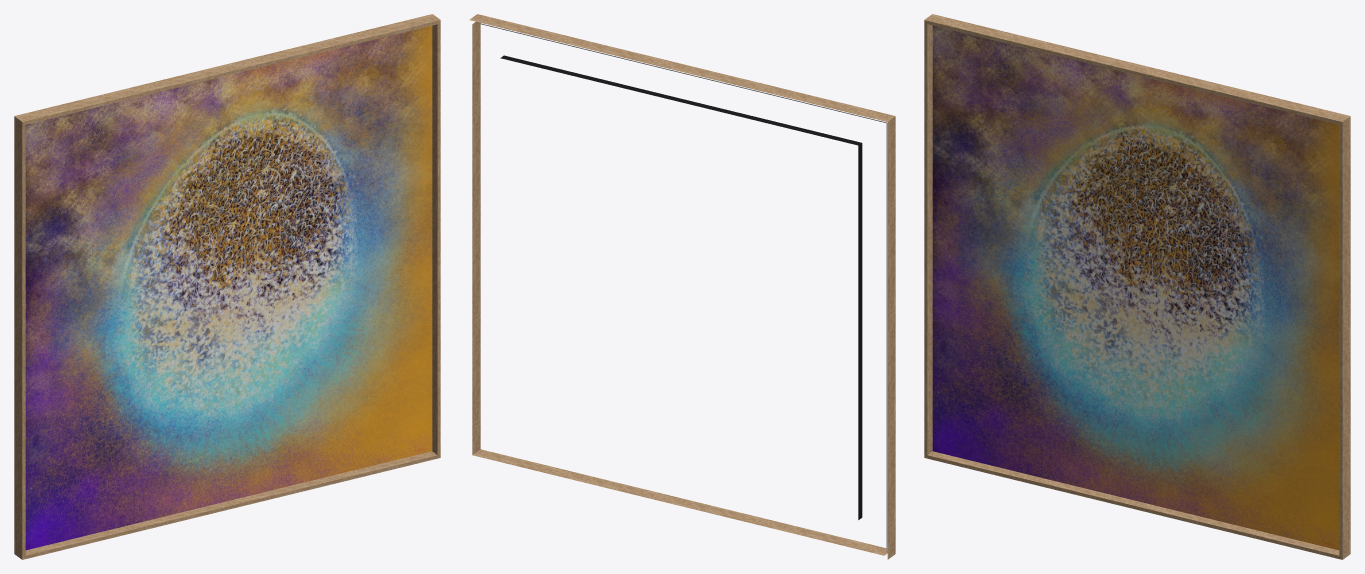
Rendered from vague-amour-366_grand_caisse-chene.glb.
The picture shows the model from 3 angles, left to right: view 1: azimuth 30°, elevation 25°; view 2: azimuth 150°, elevation 25°; view 3: azimuth 330°, elevation 25°; orthographic projection.
Parts seen in each view (by area): view 1: vague-amour-366_grand_caisse-chene; view 2: vague-amour-366_grand_caisse-chene; view 3: vague-amour-366_grand_caisse-chene.
Part boxes in pixels (bbox=[...]): vague-amour-366_grand_caisse-chene: bbox=[14, 14, 440, 559]; vague-amour-366_grand_caisse-chene: bbox=[469, 14, 895, 559]; vague-amour-366_grand_caisse-chene: bbox=[924, 14, 1350, 559].
Size of the model in its own units: 1.03 by 1.03 by 0.035.
4 materials, 2 textured.
